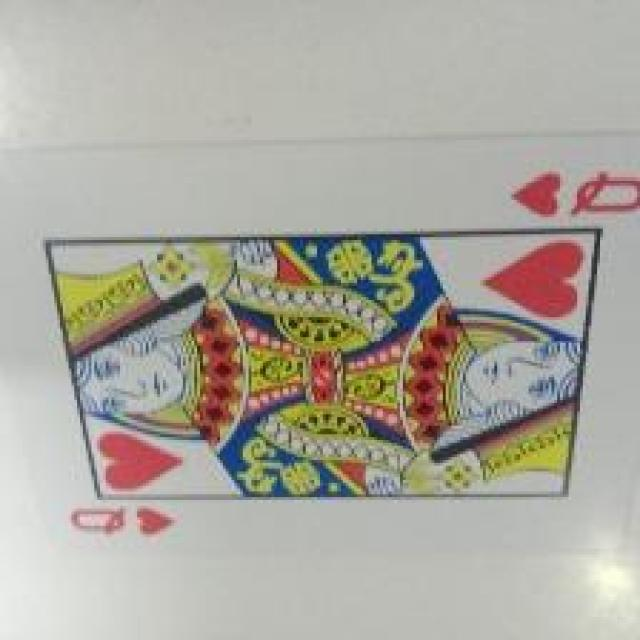Queen of hearts: (2, 134, 640, 556)
